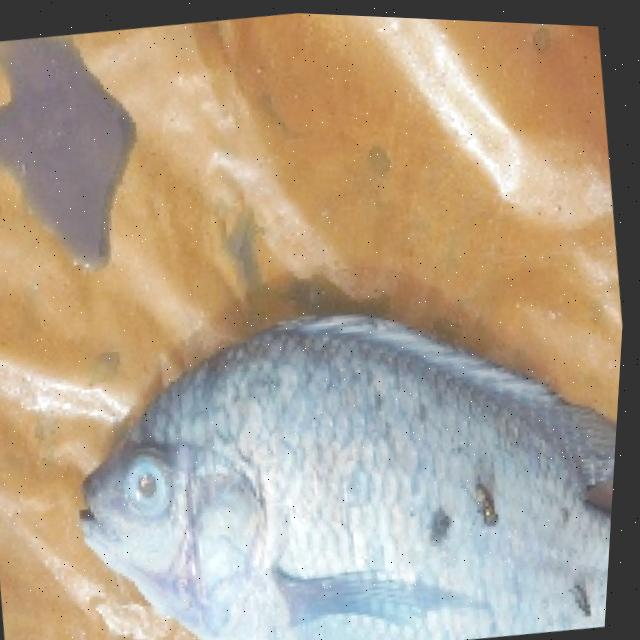Non-Fresh: (46, 275, 602, 640), (106, 435, 199, 538)
